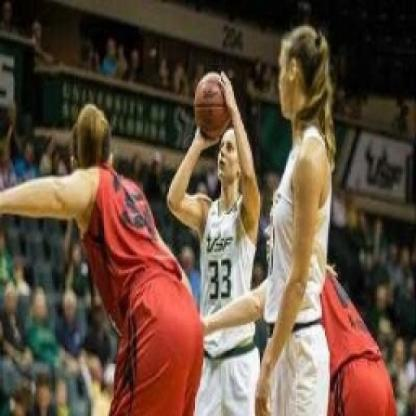basketball: (187, 68, 233, 140)
